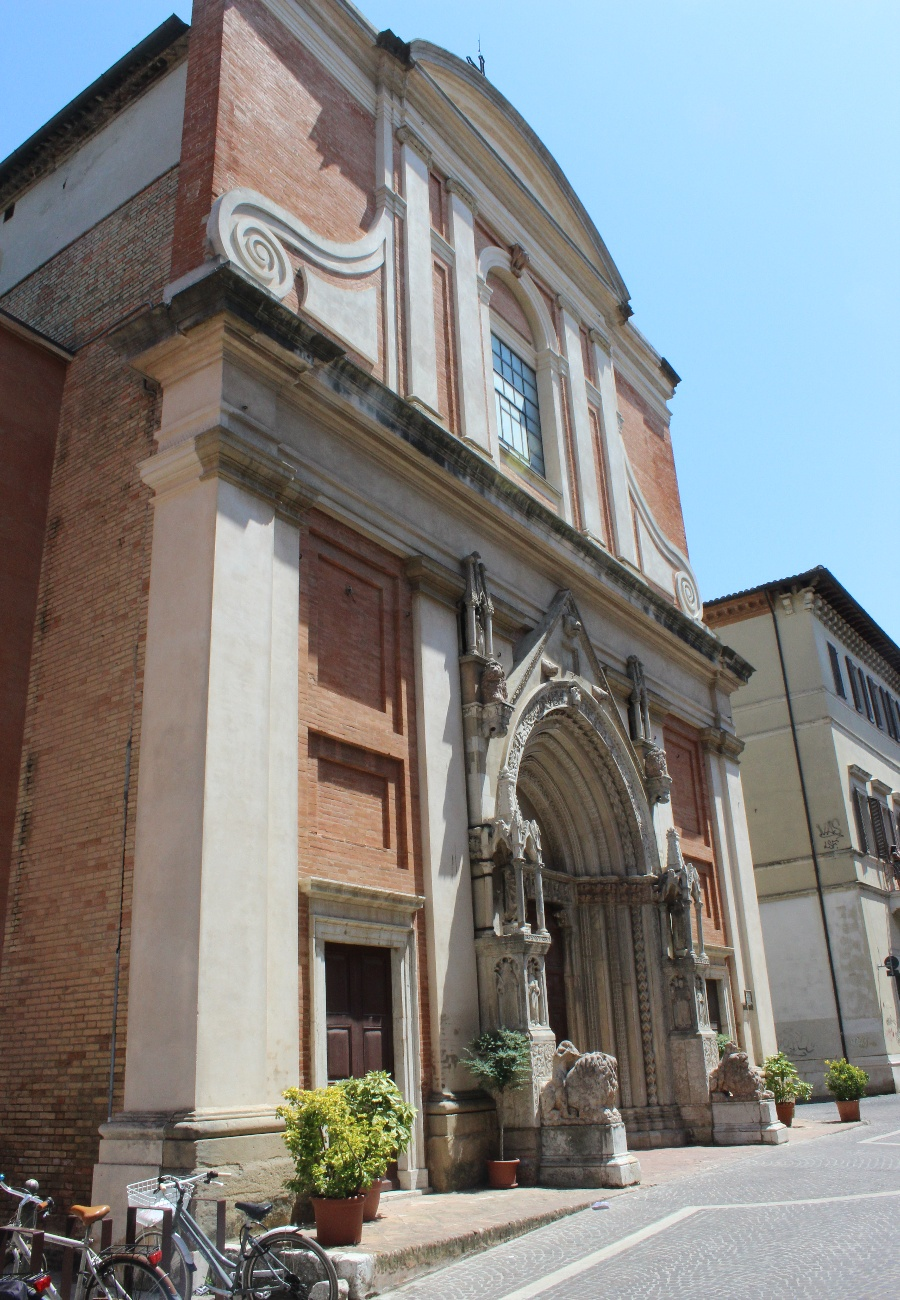Chiesa San Agostino: (137, 1, 783, 1247)
